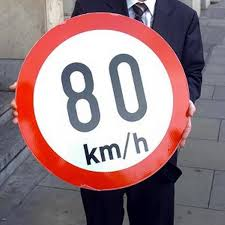sp80: (26, 26, 174, 176)
